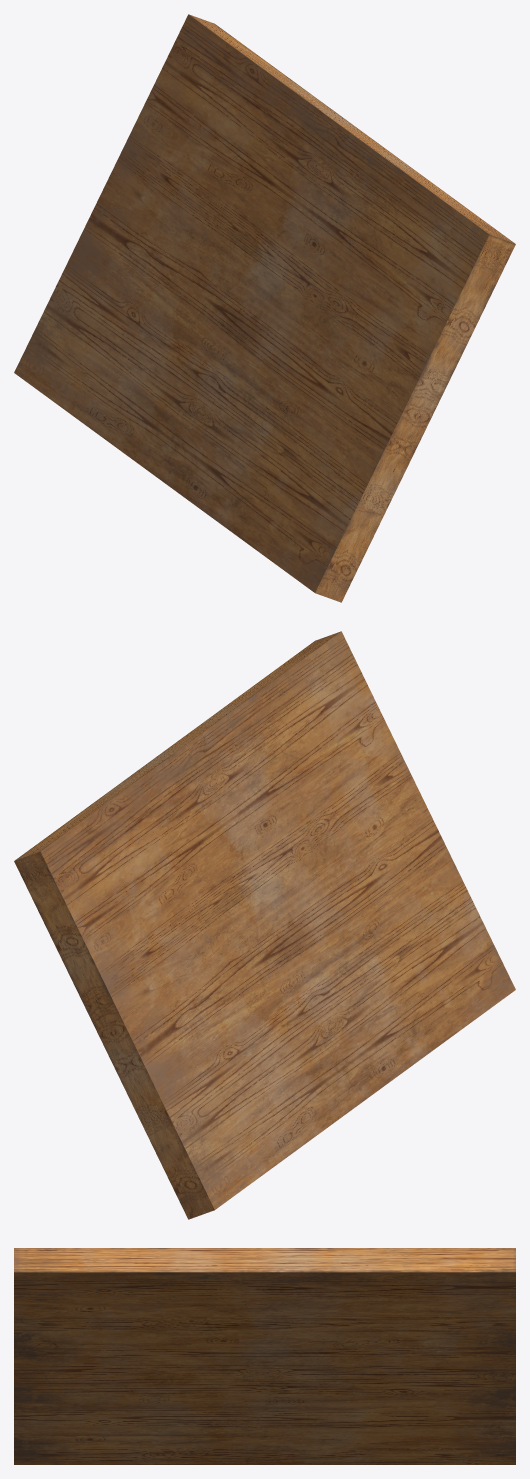
File: Elevator_Right_Foot.fbx
The picture shows the model from 3 angles, top to bottom: view 1: azimuth 30°, elevation 25°; view 2: azimuth 150°, elevation 25°; view 3: azimuth 270°, elevation 25°; orthographic projection. The views are drawn at different scales.
Visible parts, largest first — view 1: 立方体.132; view 2: 立方体.132; view 3: 立方体.132.
Boxes of the visible parts, x1,y1,x2,y2 form: 立方体.132: [14, 14, 515, 602]; 立方体.132: [14, 631, 515, 1219]; 立方体.132: [14, 1248, 515, 1464].
Size of the model in its own units: 36.05 by 56.93 by 93.53.
1 material, 1 textured.
